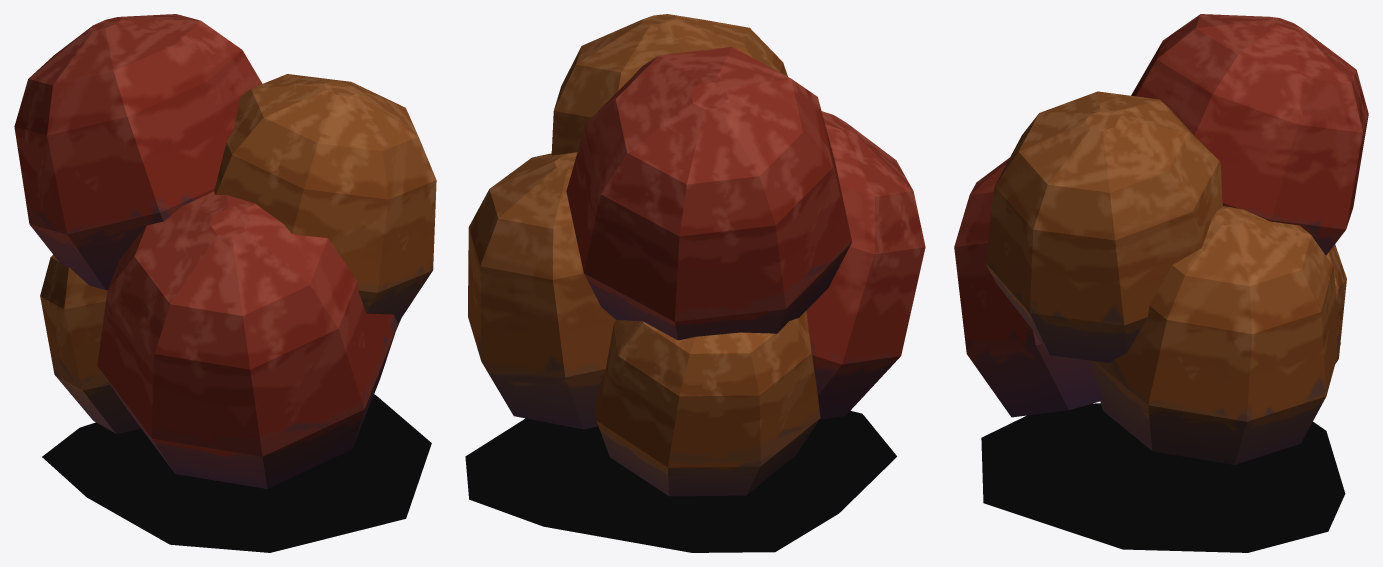
The model's file is Tree_005.fbx.
3 renders of one model, left to right at view 1: azimuth 30°, elevation 25°; view 2: azimuth 150°, elevation 25°; view 3: azimuth 270°, elevation 25°, orthographic. The views are drawn at different scales.
Visible parts, largest first — view 1: Tree_003_01, Tree_003_02.001, Tree_003_04, Shadow, Tree_003_02; view 2: Tree_003_02.001, Shadow, Tree_003_02, Tree_003_03, Tree_003_01, Tree_003_04; view 3: Tree_003_04, Tree_003_03, Shadow, Tree_003_02.001, Tree_003_01, Tree_003_02.
Boxes of the visible parts, x1,y1,x2,y2 form: Tree_003_01: (97,191,397,488); Tree_003_02.001: (14,14,262,289); Tree_003_04: (214,74,436,323); Shadow: (42,394,431,552); Tree_003_02: (40,254,141,433); Tree_003_02.001: (566,47,851,340); Shadow: (465,411,896,552); Tree_003_02: (594,311,820,496); Tree_003_03: (468,152,615,429); Tree_003_01: (806,111,925,419); Tree_003_04: (551,14,787,155); Tree_003_04: (985,91,1222,362); Tree_003_03: (1089,206,1340,464); Shadow: (981,403,1345,552); Tree_003_02.001: (1131,14,1368,255); Tree_003_01: (954,157,1103,417); Tree_003_02: (1326,244,1346,363).
Bounding box in the file's own units: 211 × 252 × 228.
